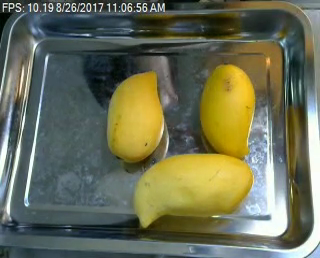Mango: (133, 153, 251, 226), (101, 66, 166, 159), (196, 61, 258, 156)
